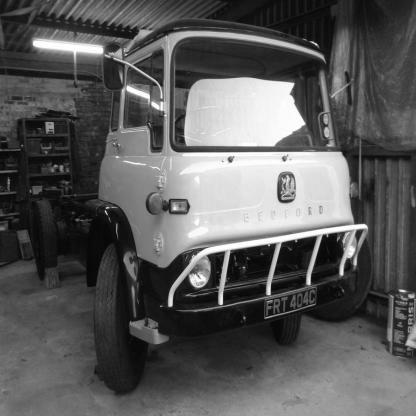truck: (23, 17, 389, 405)
